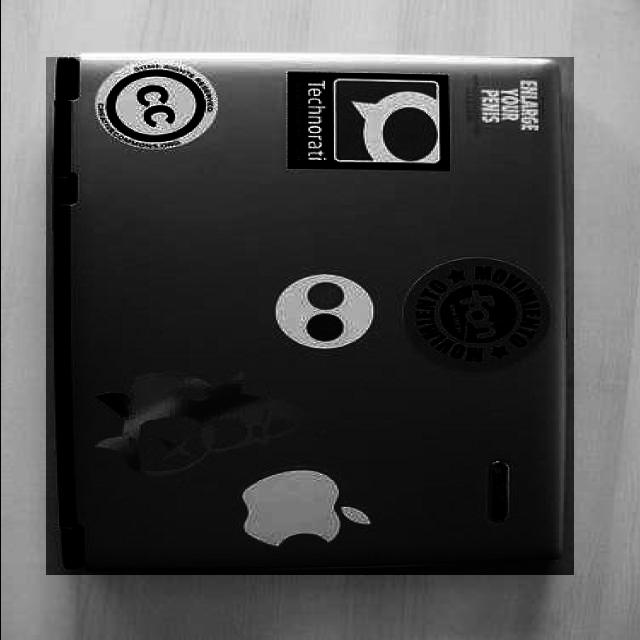-keyboard-: (46, 57, 574, 575)
